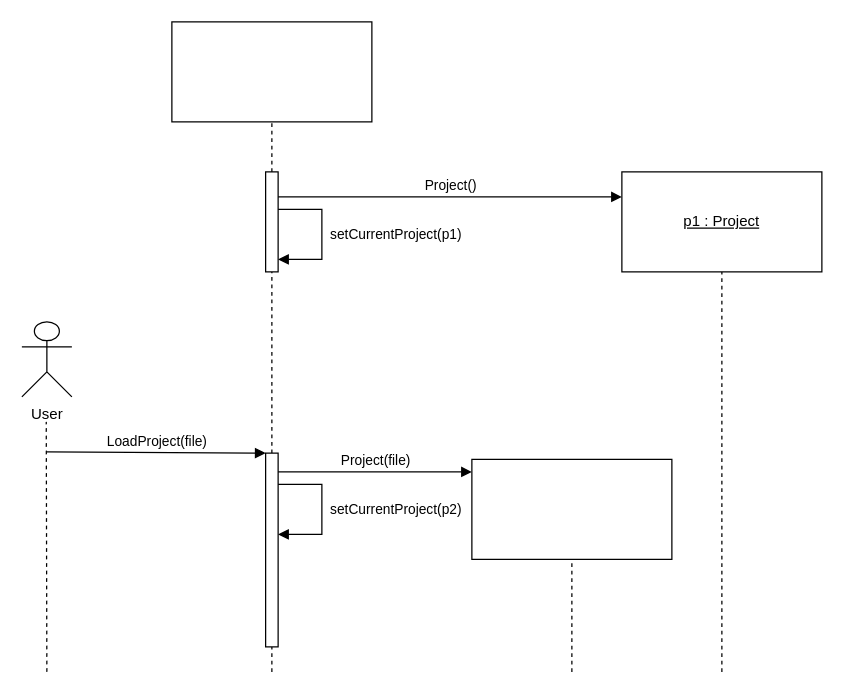
This 844x695 diagram has some shape labels left out. Each missing label, with the centre of its shape:
": ModelManager" belongs at point 271,71.
"p2 : Project" belongs at point 571,508.
